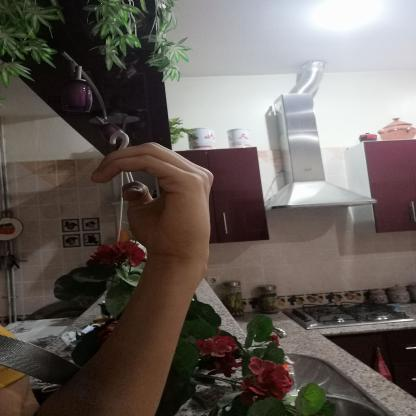JEEM: (80, 134, 237, 276)
